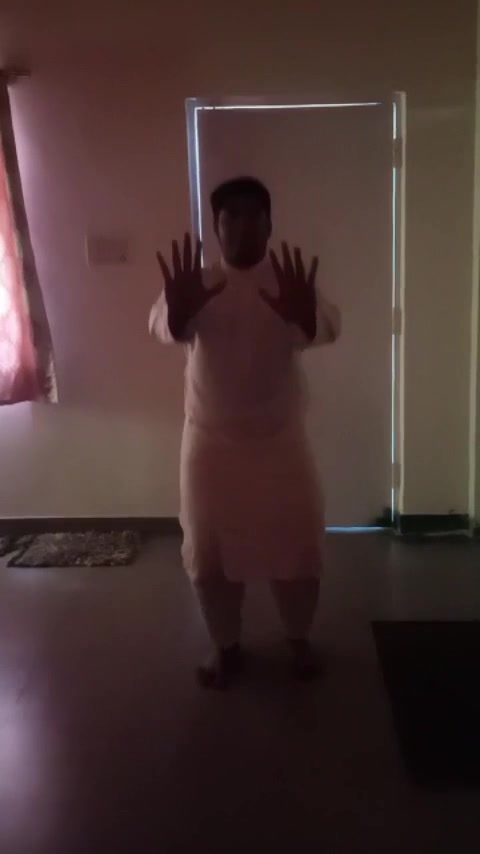duck: (144, 168, 362, 697)
